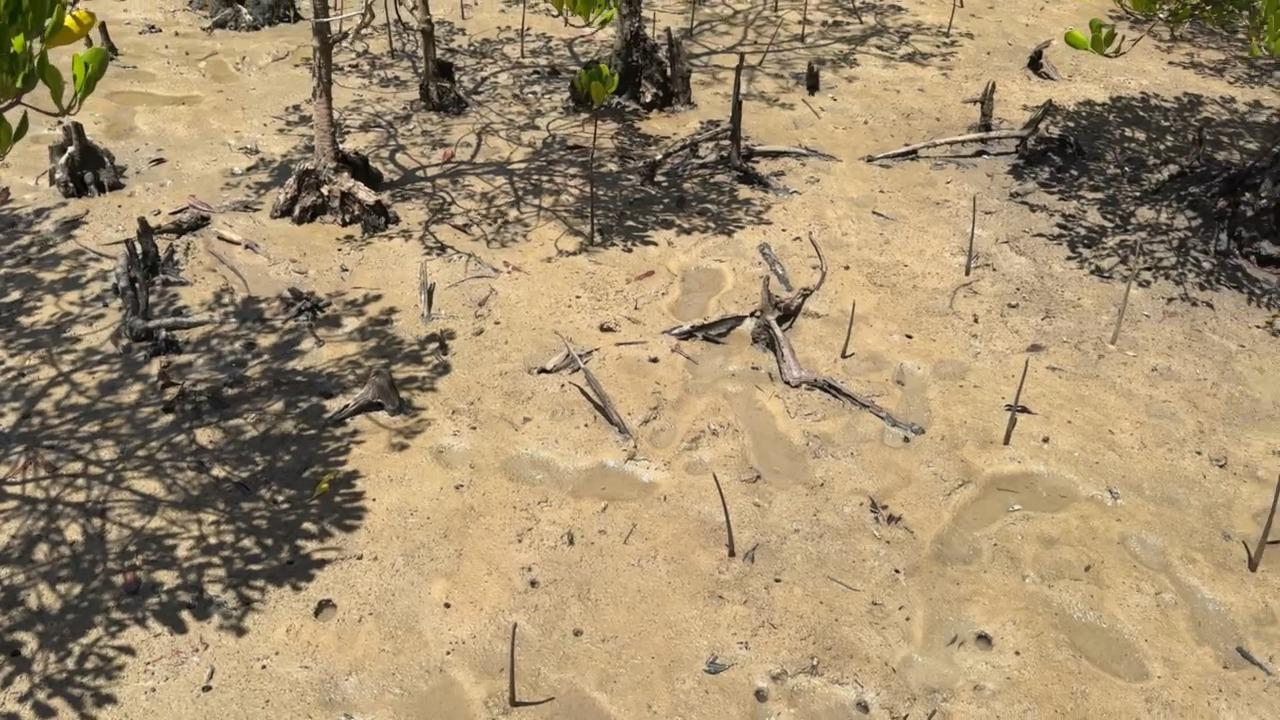Tree: (570, 62, 618, 242), (1110, 239, 1143, 345), (1249, 473, 1280, 573), (1003, 359, 1030, 446), (713, 473, 735, 558), (759, 20, 783, 65), (965, 196, 976, 276), (840, 300, 855, 358), (384, 0, 397, 57), (510, 622, 517, 707), (946, 0, 956, 38), (852, 0, 864, 25), (521, 0, 526, 58), (689, 0, 696, 34), (802, 0, 807, 41), (461, 0, 466, 18)
